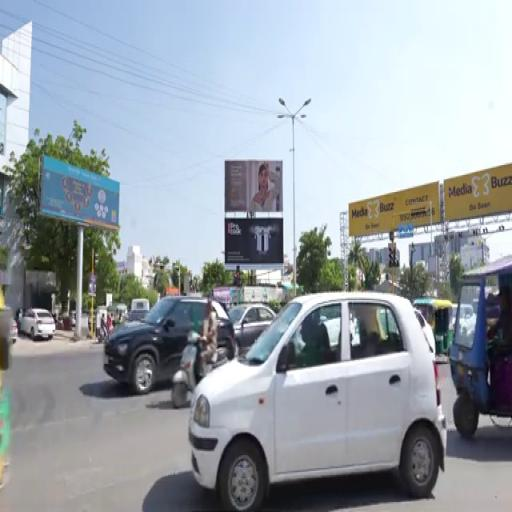Car: (188, 292, 447, 511), (104, 296, 207, 395), (228, 305, 275, 352), (20, 309, 55, 339), (415, 309, 435, 359), (127, 311, 147, 321), (10, 320, 17, 344)
